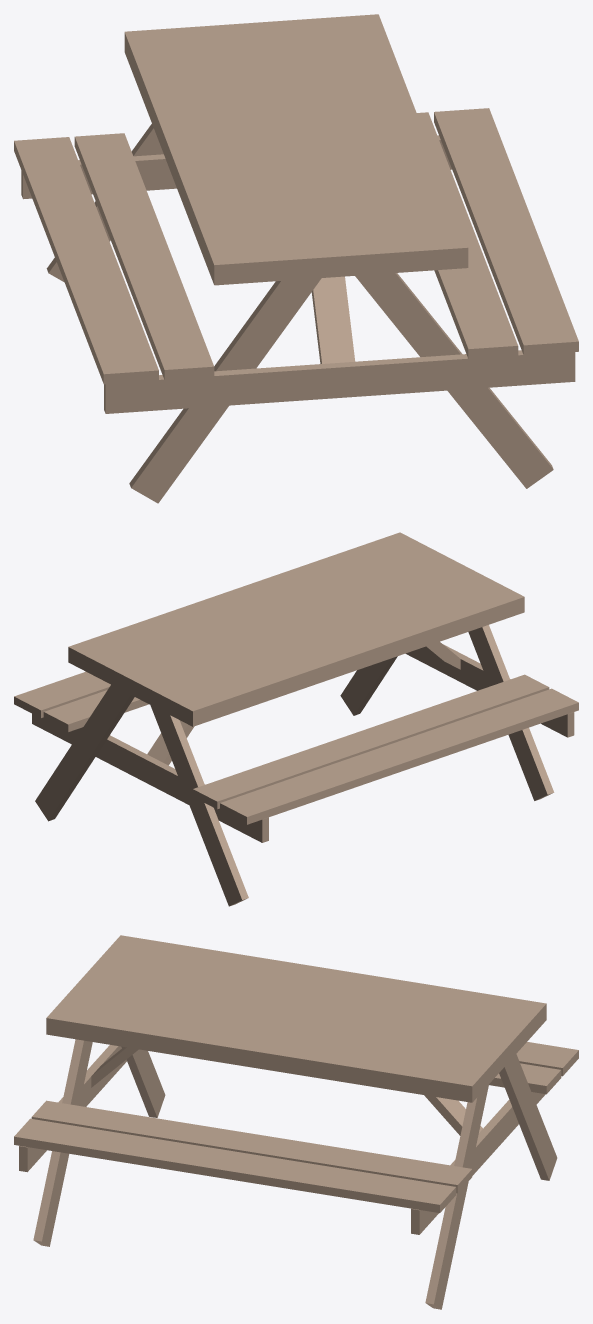
File: wood_bench_24069.glb
3 views of the same model, one above another, from view 1: azimuth 30°, elevation 25°; view 2: azimuth 150°, elevation 25°; view 3: azimuth 270°, elevation 25° (orthographic). The views are drawn at different scales.
Visible parts, largest first — view 1: part_24076, part_24082, part_24071, part_24077, part_24075, part_24080, part_24081, part_24072, part_24074, part_24088, part_24086; view 2: part_24076, part_24077, part_24075, part_24086, part_24087, part_24088, part_24080, part_24071, part_24082, part_24072, part_24081, part_24073; view 3: part_24076, part_24071, part_24072, part_24087, part_24081, part_24086, part_24088, part_24080, part_24082, part_24077, part_24075, part_24073 (+1 smaller).
Part boxes in pixels (bbox=[...]): part_24076: bbox=[124, 14, 468, 285]; part_24082: bbox=[104, 350, 575, 413]; part_24071: bbox=[434, 108, 578, 355]; part_24077: bbox=[14, 137, 158, 384]; part_24075: bbox=[74, 133, 214, 380]; part_24080: bbox=[129, 278, 321, 503]; part_24081: bbox=[355, 273, 553, 488]; part_24072: bbox=[417, 112, 518, 359]; part_24074: bbox=[311, 276, 355, 363]; part_24088: bbox=[21, 135, 451, 199]; part_24086: bbox=[46, 124, 163, 281]; part_24076: bbox=[68, 532, 524, 726]; part_24077: bbox=[220, 688, 578, 824]; part_24075: bbox=[193, 674, 549, 809]; part_24086: bbox=[150, 705, 248, 906]; part_24087: bbox=[35, 684, 134, 821]; part_24088: bbox=[32, 713, 268, 842]; part_24080: bbox=[468, 625, 554, 800]; part_24071: bbox=[14, 671, 110, 717]; part_24082: bbox=[405, 644, 574, 737]; part_24072: bbox=[43, 690, 148, 732]; part_24081: bbox=[340, 656, 397, 715]; part_24073: bbox=[147, 720, 194, 765]; part_24076: bbox=[46, 935, 546, 1102]; part_24071: bbox=[14, 1118, 456, 1212]; part_24072: bbox=[31, 1100, 472, 1193]; part_24087: bbox=[425, 1085, 488, 1309]; part_24081: bbox=[33, 1039, 92, 1246]; part_24086: bbox=[499, 1054, 557, 1180]; part_24088: bbox=[411, 1092, 545, 1234]; part_24080: bbox=[121, 1046, 165, 1117]; part_24082: bbox=[19, 1045, 126, 1172]; part_24077: bbox=[516, 1042, 578, 1076]; part_24075: bbox=[489, 1063, 561, 1094]; part_24073: bbox=[424, 1095, 482, 1135].
Bounding box in the file's own units: 11.59 × 4.98 × 12.4.
